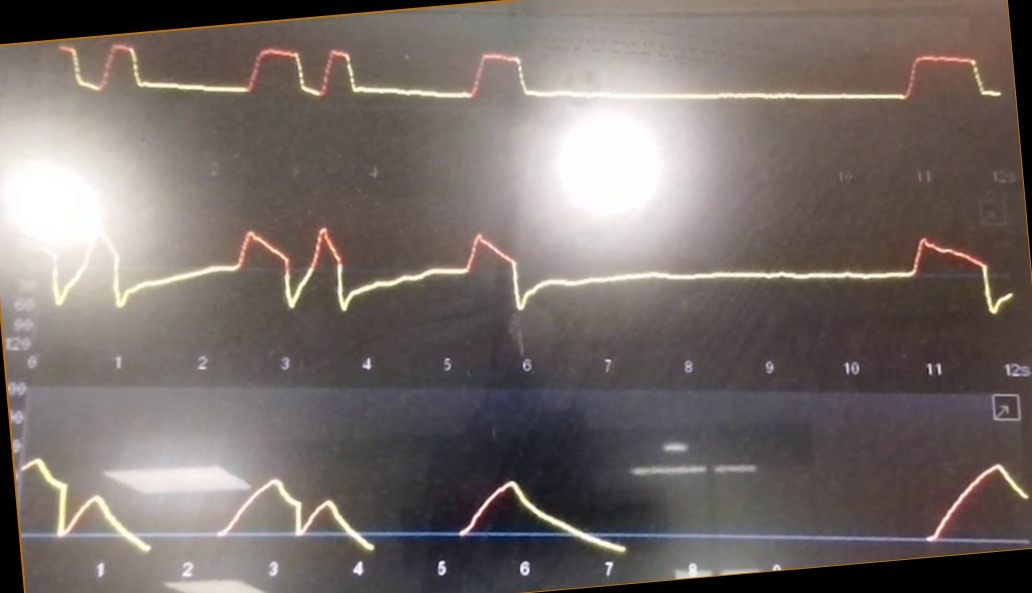Double_Triggering Flow: (40, 193, 1012, 324)
Double_Triggering Volume: (21, 424, 1026, 557)
